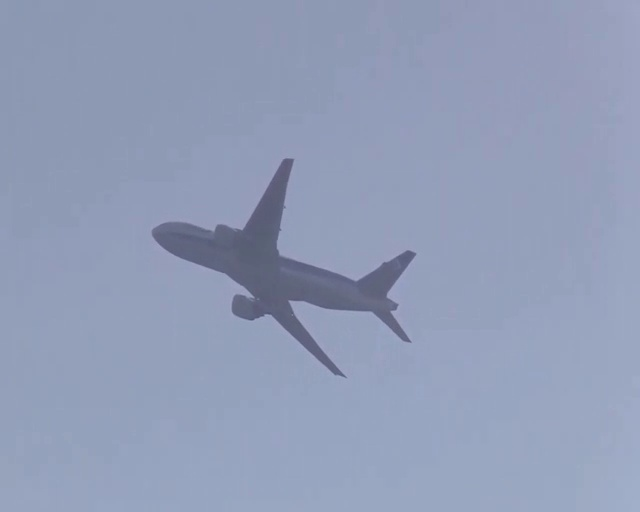AIRPLANE: (150, 154, 416, 388)
